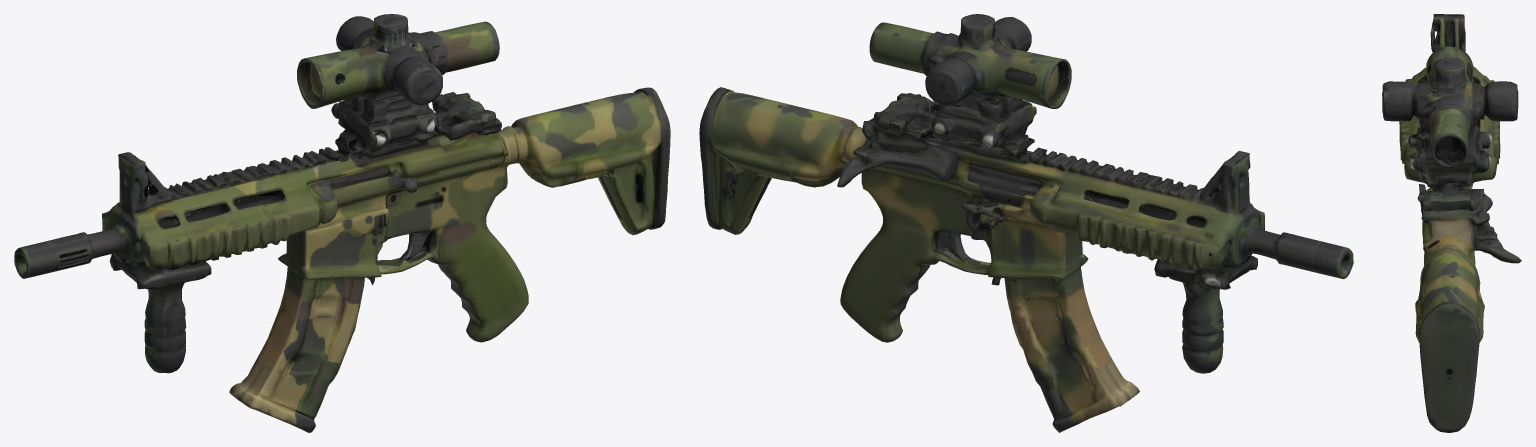
File: Gewehr_G36__0811071725_texture.fbx
3 views of the same model, side by side, from view 1: azimuth 30°, elevation 25°; view 2: azimuth 150°, elevation 25°; view 3: azimuth 270°, elevation 25° (orthographic). The views are drawn at different scales.
Visible parts, largest first — view 1: Mesh_0; view 2: Mesh_0; view 3: Mesh_0.
Boxes of the visible parts, left/top/right/bottom form: Mesh_0: left=14, top=14, right=670, bottom=432; Mesh_0: left=699, top=14, right=1353, bottom=432; Mesh_0: left=1382, top=14, right=1521, bottom=432.
Size of the model in its own units: 200 by 117 by 41.27.
Materials: 1 (1 with a texture image).
